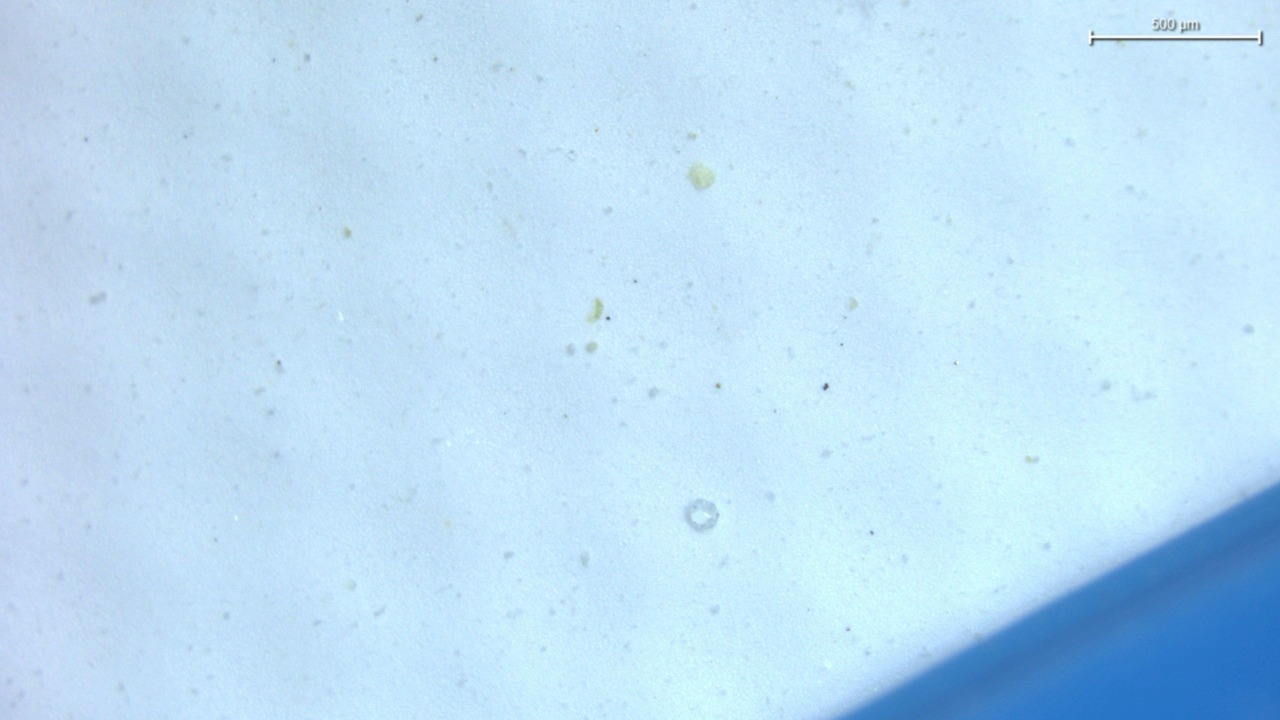microplastic_fragment: (684, 499, 719, 532)
